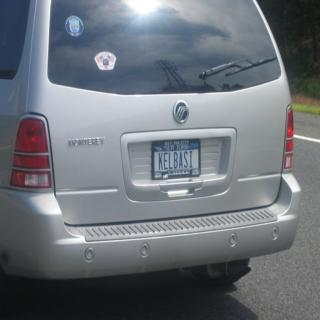license: (152, 140, 202, 180)
